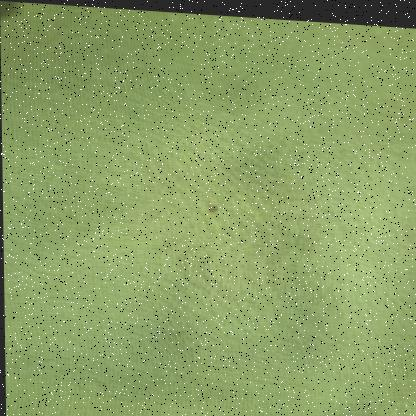spot: (197, 194, 235, 216)
